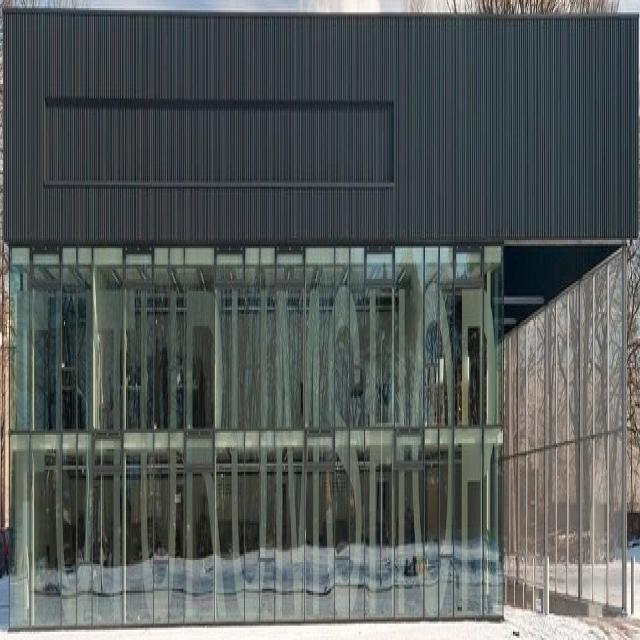window: (11, 249, 505, 619)
